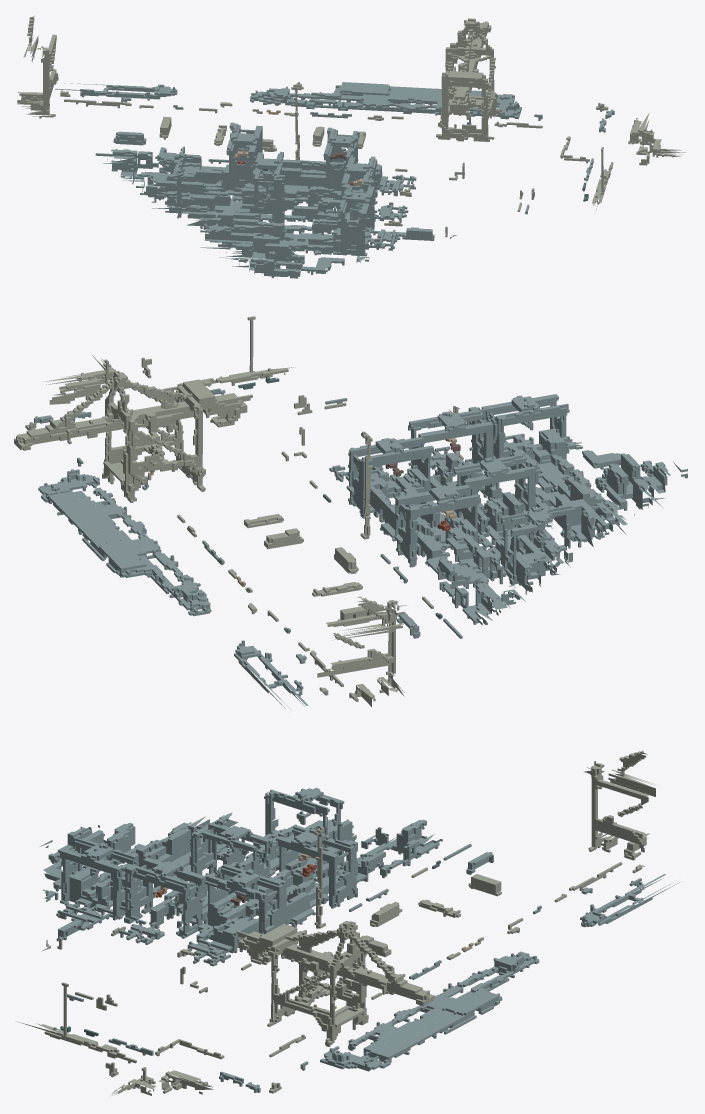
3 views of the same model, one above another, from view 1: azimuth 30°, elevation 25°; view 2: azimuth 150°, elevation 25°; view 3: azimuth 270°, elevation 25° (orthographic). The views are drawn at different scales.
Visible parts, largest first — view 1: measured-industrial; view 2: measured-industrial; view 3: measured-industrial.
Boxes of the visible parts, box(x1,y1,x2,y2) form: measured-industrial: box(17, 15, 685, 278); measured-industrial: box(14, 316, 687, 709); measured-industrial: box(17, 750, 681, 1096).
Size of the model in its own units: 269 by 55.98 by 283.
